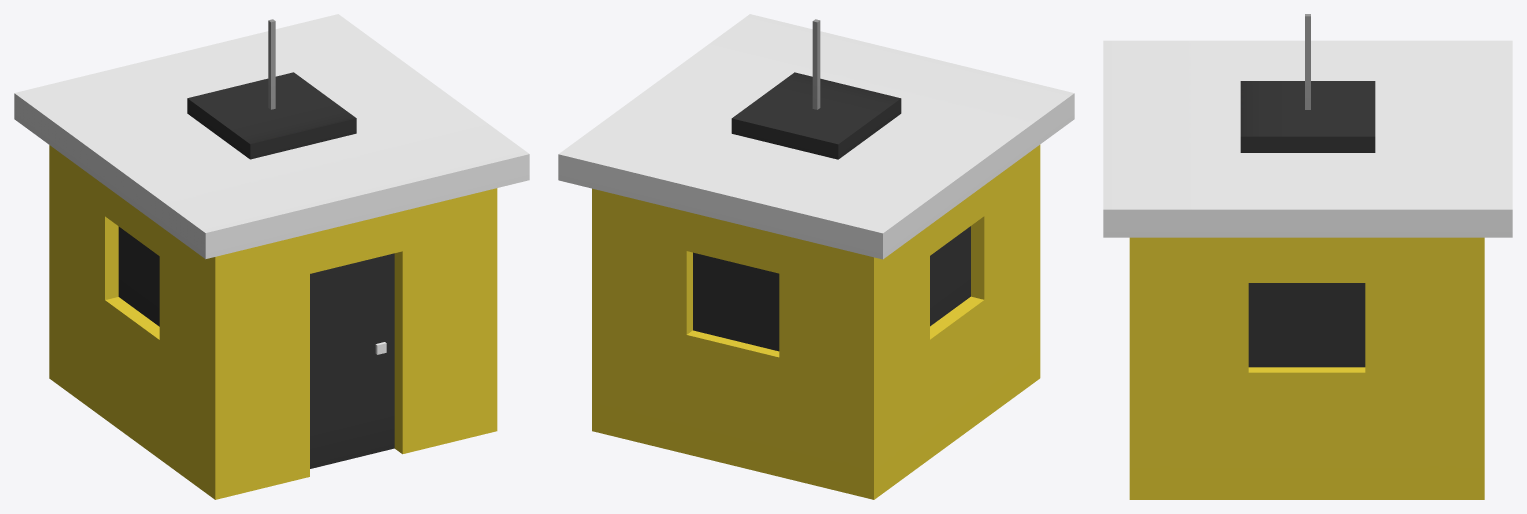
Rendered from Building 03.FBX.
The picture shows the model from 3 angles, left to right: view 1: azimuth 30°, elevation 25°; view 2: azimuth 150°, elevation 25°; view 3: azimuth 270°, elevation 25°; orthographic projection. The views are drawn at different scales.
Visible parts, largest first — view 1: Box001; view 2: Box001; view 3: Box001.
Part boxes in pixels (box(x1,y1,x2,y2)): Box001: box(14, 14, 529, 499); Box001: box(558, 14, 1074, 499); Box001: box(1103, 14, 1512, 499).
Size of the model in its own units: 27.9 by 31.58 by 28.53.
